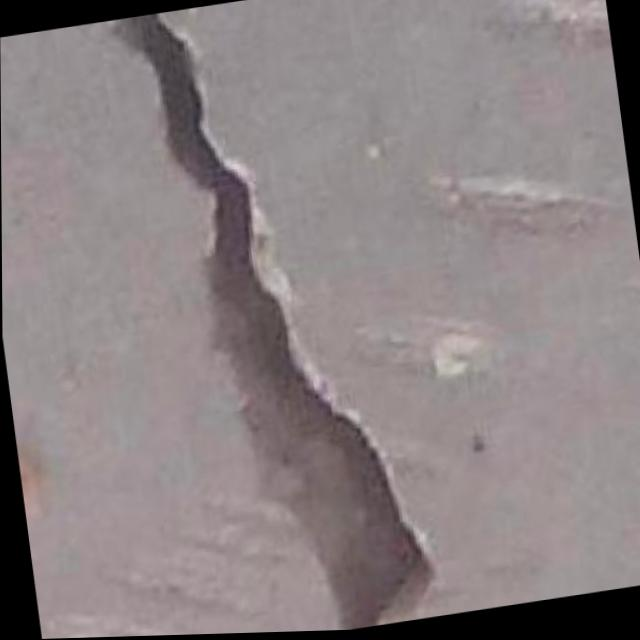Crack: (108, 0, 454, 637)
